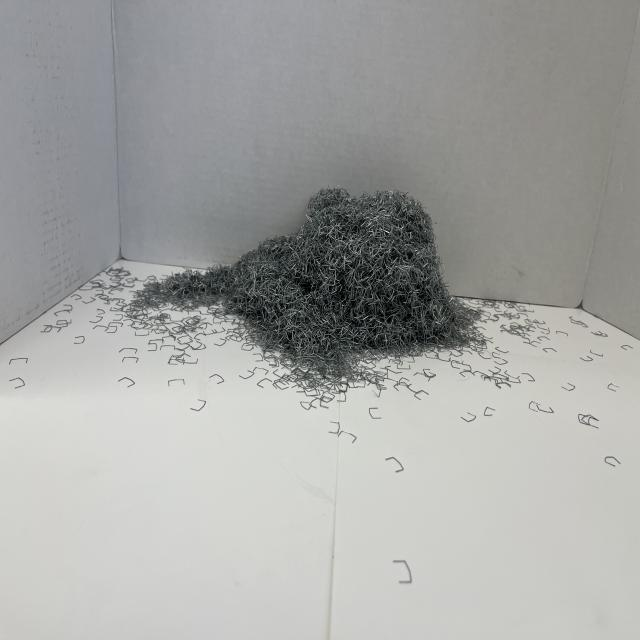staples: (128, 183, 486, 372)
